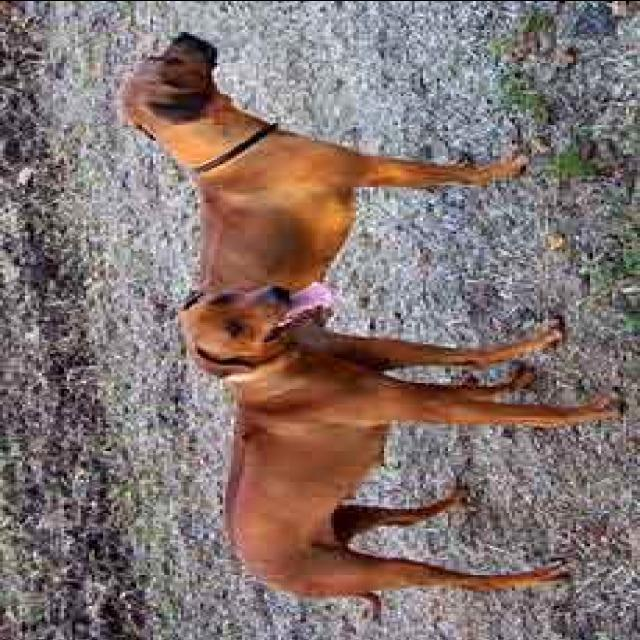rhodesian_ridgeback: (167, 276, 629, 626), (114, 28, 573, 372)
